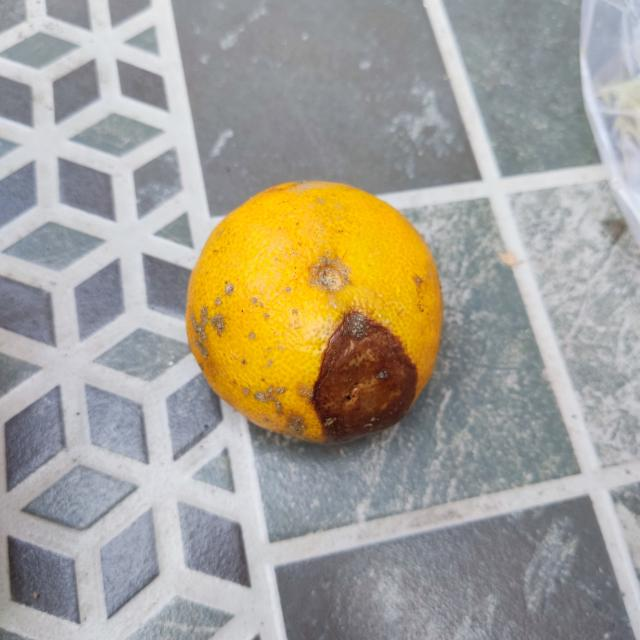orange: (182, 177, 444, 443)
